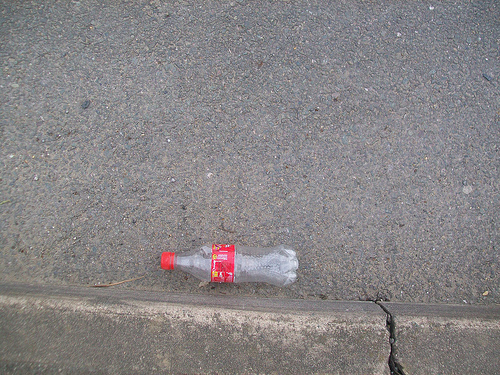litter: (160, 241, 298, 288)
